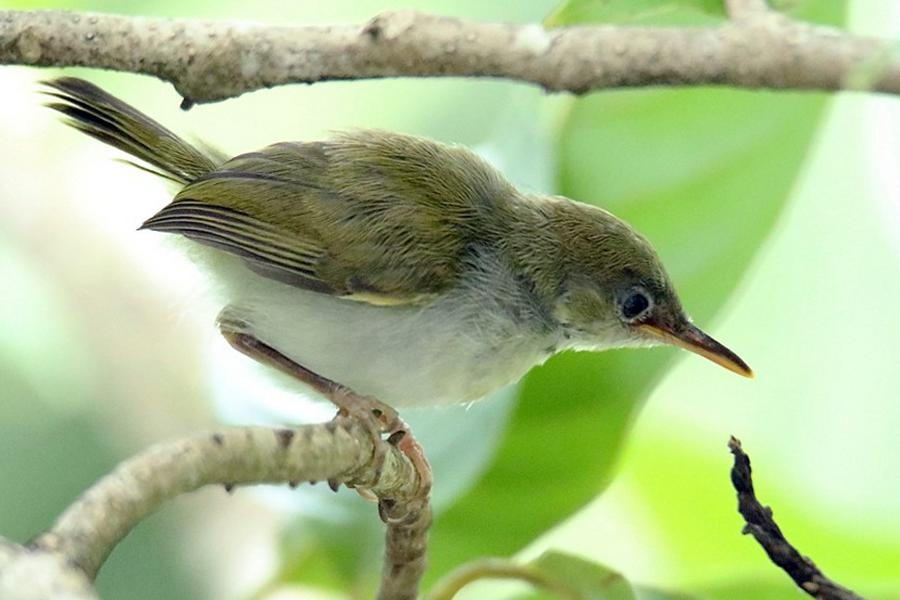tailorbird: (40, 68, 759, 433)
